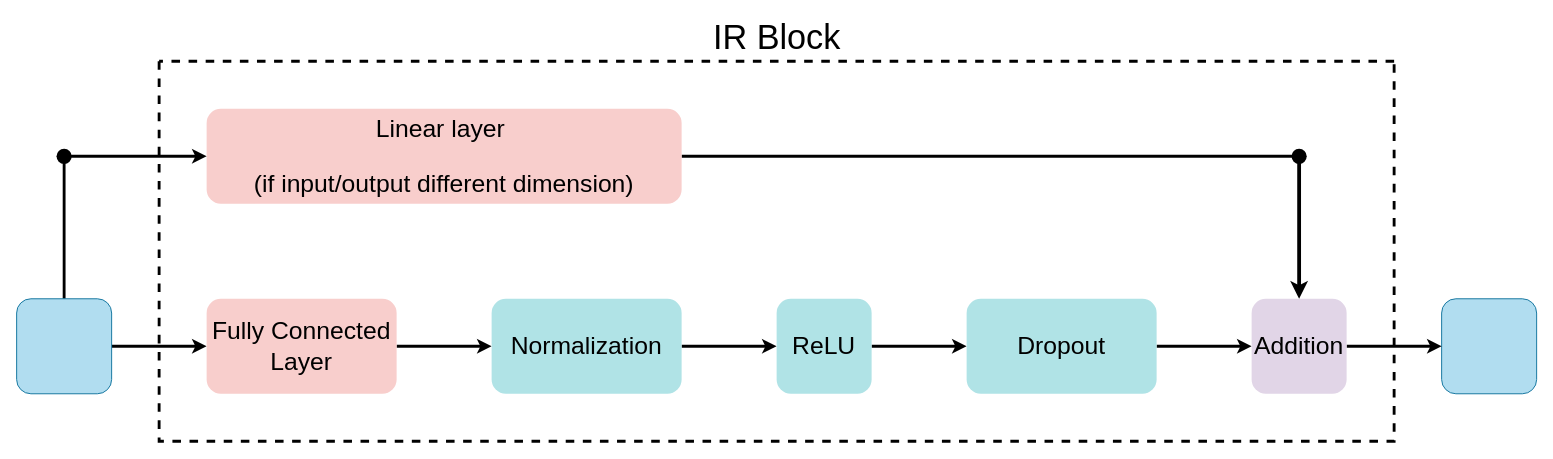
This 1553x459 diagram has some shape labels left out. The centre of each missing label's shape, as x and y in pixels:
"Input" goes at point (64, 346).
"Output" goes at point (1489, 346).
